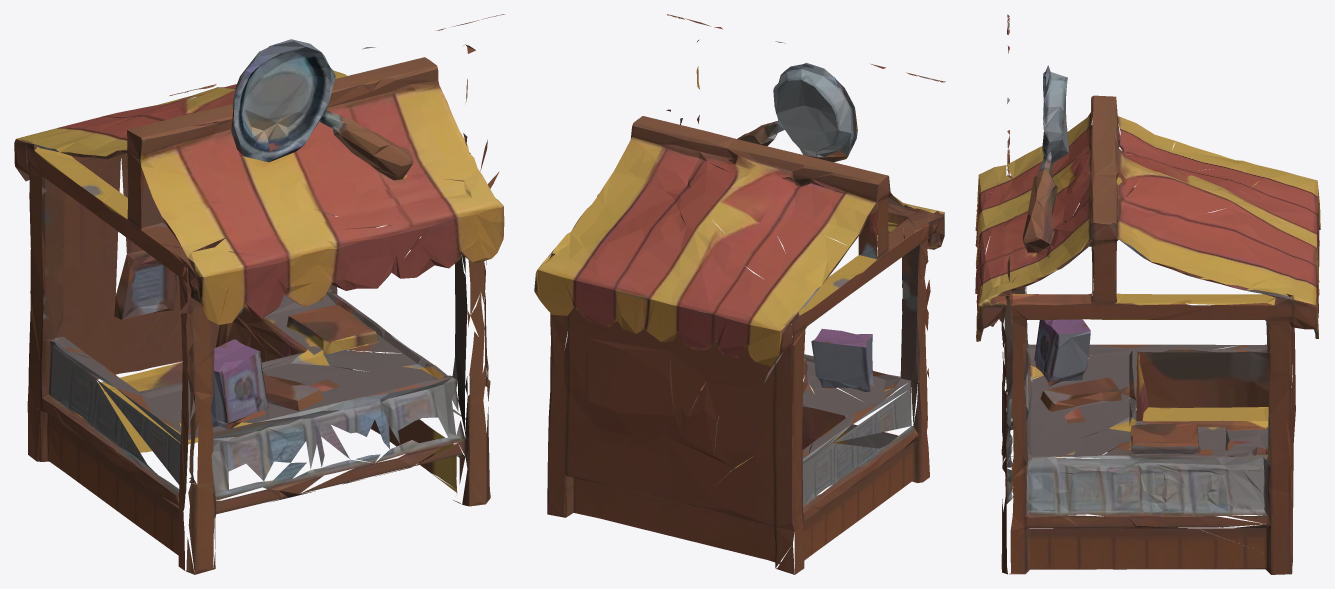
The model's file is shop_kartochkin.glb.
3 views of the same model, side by side, from view 1: azimuth 30°, elevation 25°; view 2: azimuth 150°, elevation 25°; view 3: azimuth 270°, elevation 25° (orthographic). The views are drawn at different scales.
Visible parts, largest first — view 1: geometry_0; view 2: geometry_0; view 3: geometry_0.
Boxes of the visible parts, x1,y1,x2,y2 form: geometry_0: (14, 14, 504, 574); geometry_0: (534, 14, 945, 574); geometry_0: (975, 14, 1320, 574).
Size of the model in its own units: 1.98 by 2.73 by 2.
1 material, 1 textured.
